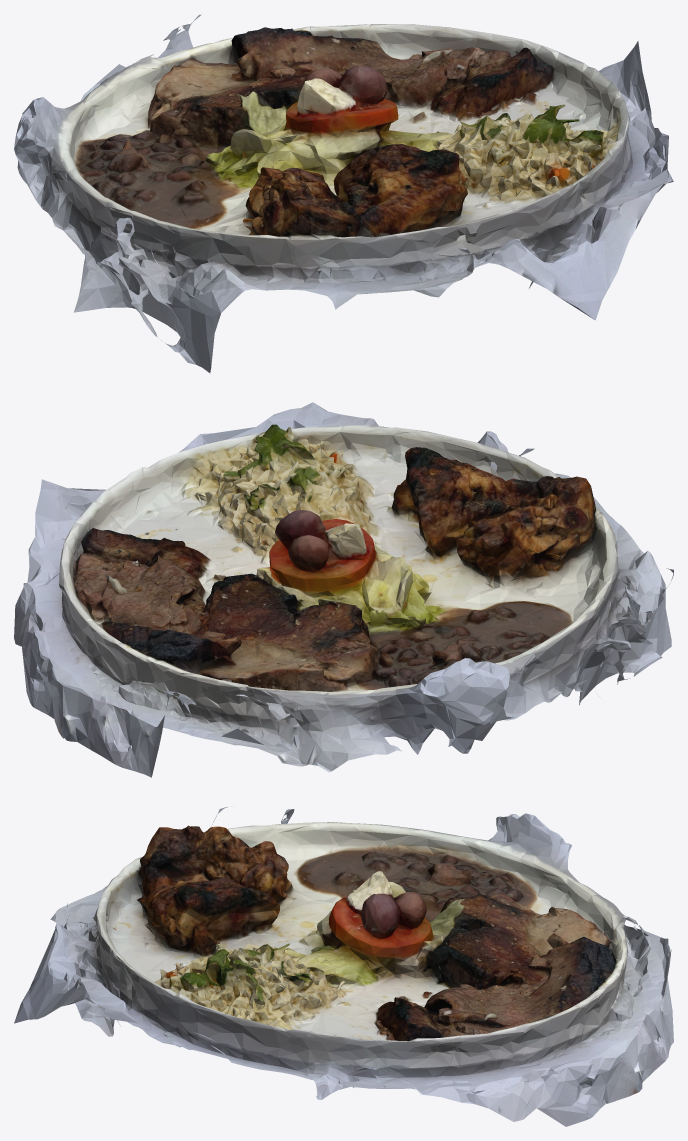
Rendered from prato-casa.glb.
3 renders of one model, top to bottom at view 1: azimuth 30°, elevation 25°; view 2: azimuth 150°, elevation 25°; view 3: azimuth 270°, elevation 25°, orthographic. The views are drawn at different scales.
Parts seen in each view (by area): view 1: geometry_0; view 2: geometry_0; view 3: geometry_0.
Boxes of the visible parts, <box> form: geometry_0: <box>14,14,673,372</box>; geometry_0: <box>14,402,673,777</box>; geometry_0: <box>14,807,673,1126</box>.
Bounding box in the file's own units: 0.2986 × 0.078 × 0.3171.
Materials: 1 (1 with a texture image).
